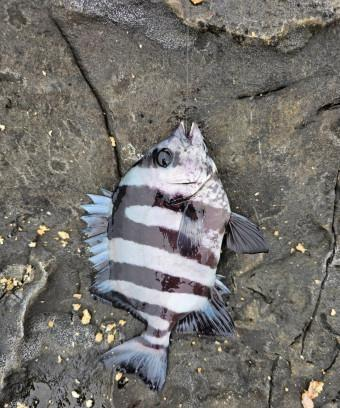fish: (82, 121, 267, 389)
